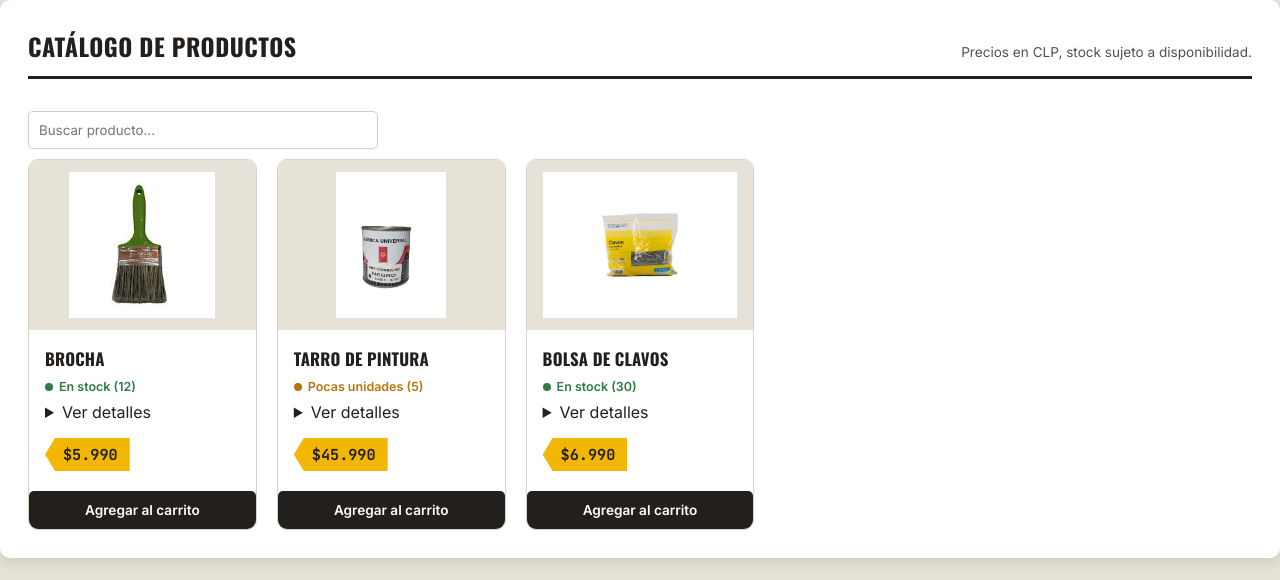
it: Muestra un mensaje cuando la búsqueda no tiene resultados
interaccion del usuario
Type "zzz" into the field with placeholder "Buscar producto...". click: (203, 130)
box: 28,111 -> 378,149
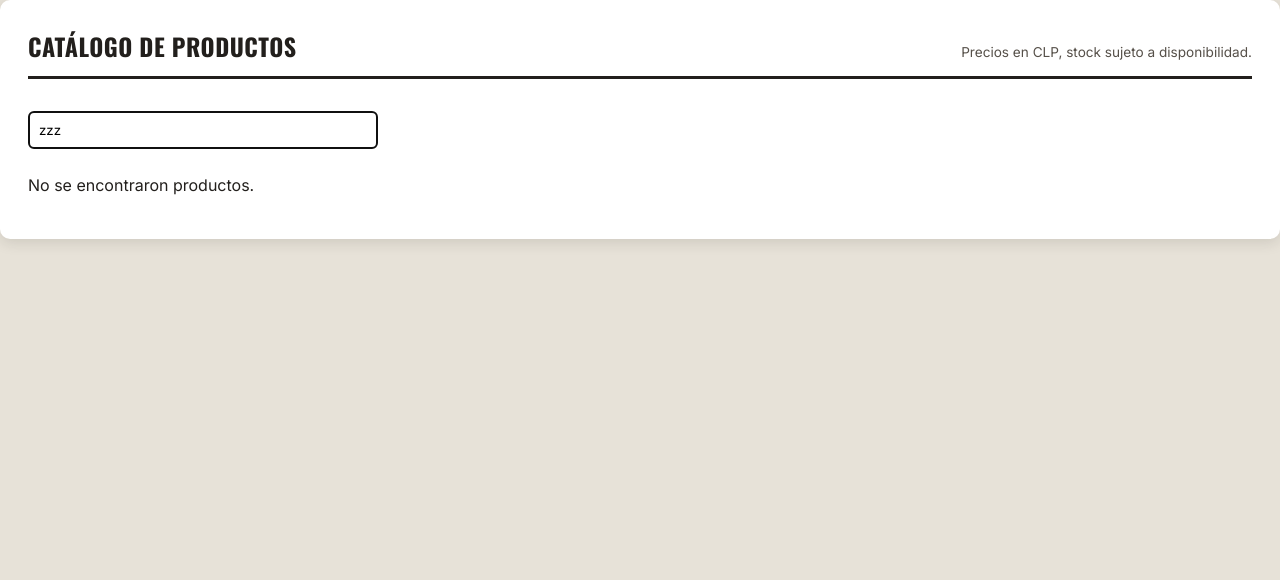
Expected: the text "No se encontraron productos." is shown, 28,175 -> 257,195
